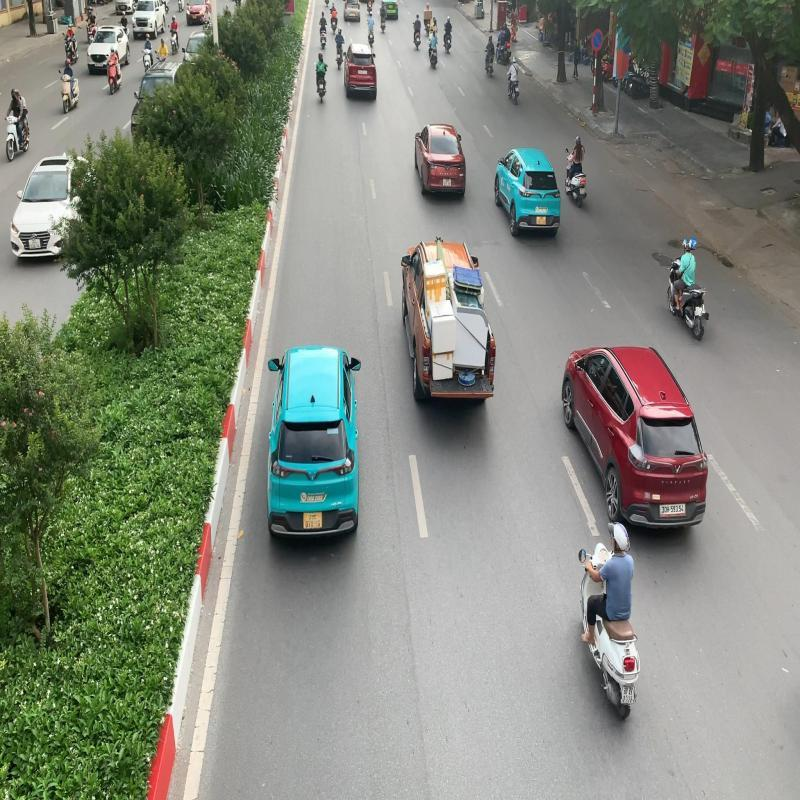helmet: (611, 523, 630, 551), (686, 237, 697, 250)
licenseplate: (620, 684, 636, 706), (694, 304, 704, 317)
motorcyclist: (574, 522, 648, 724), (660, 237, 714, 345)
